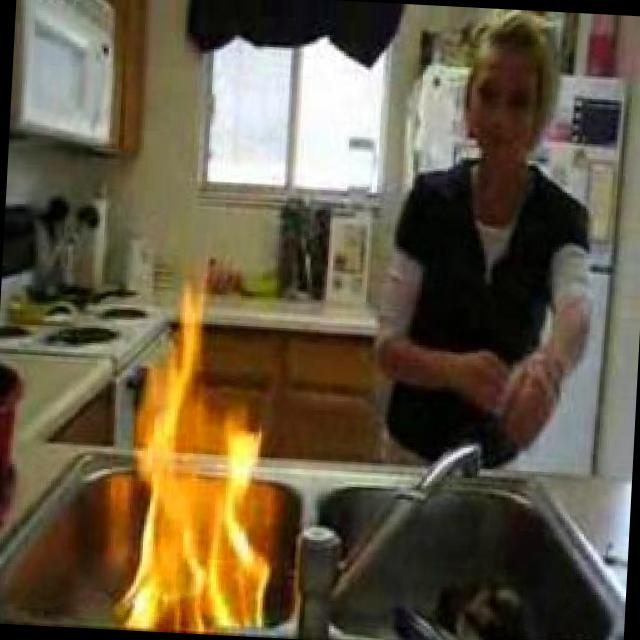Fire: (122, 282, 290, 638)
